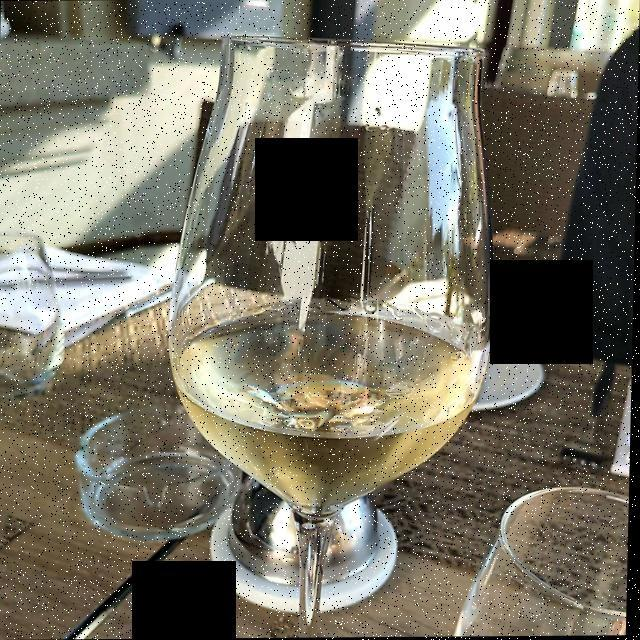wine: (180, 317, 478, 505)
